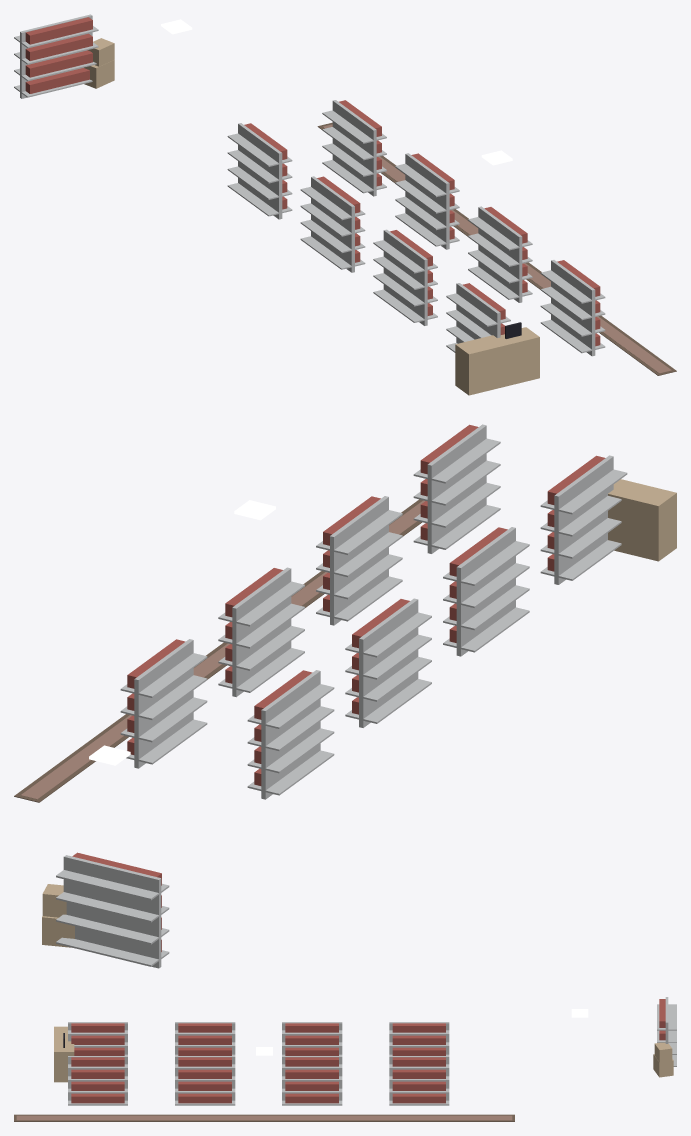
File: fine-s0.glb
3 views of the same model, one above another, from view 1: azimuth 30°, elevation 25°; view 2: azimuth 150°, elevation 25°; view 3: azimuth 270°, elevation 25° (orthographic). The views are drawn at different scales.
Parts seen in each view (by area): view 1: shelving.000, shop-counter.000, shelf.000, shelf.007, shelf.006, shelf.001, shelf.002, shelf.005, shelf.004, shelf.003, soft-s0, cardboard-box.000; view 2: shelving.000, shelf.007, shelf.002, shelf.000, shelf.001, shelf.005, shelf.006, shelf.004, shelf.003, shop-counter.000, soft-s0, cardboard-box.000; view 3: soft-s0, shelf.004, shelf.005, shelf.006, shelf.007, shelf.000, shelf.001, shelf.002, shelf.003, shelving.000, shop-counter.000, cardboard-box.000.
Part boxes in pixels (x1=…): shelving.000: x1=14, y1=14, x2=98, y2=98; shop-counter.000: x1=455, y1=322, x2=539, y2=395; shelf.000: x1=227, y1=123, x2=292, y2=219; shelf.007: x1=540, y1=260, x2=605, y2=356; shelf.006: x1=468, y1=206, x2=532, y2=302; shelf.001: x1=300, y1=176, x2=365, y2=272; shelf.002: x1=373, y1=229, x2=437, y2=325; shelf.005: x1=395, y1=153, x2=459, y2=249; shelf.004: x1=322, y1=100, x2=386, y2=196; shelf.003: x1=446, y1=283, x2=510, y2=352; soft-s0: x1=317, y1=122, x2=676, y2=375; cardboard-box.000: x1=84, y1=38, x2=114, y2=88; shelving.000: x1=56, y1=852, x2=169, y2=968; shelf.007: x1=413, y1=424, x2=500, y2=553; shelf.002: x1=443, y1=527, x2=529, y2=656; shelf.000: x1=247, y1=670, x2=334, y2=799; shelf.001: x1=345, y1=598, x2=431, y2=727; shelf.005: x1=218, y1=567, x2=304, y2=697; shelf.006: x1=316, y1=496, x2=402, y2=625; shelf.004: x1=120, y1=639, x2=207, y2=768; shelf.003: x1=540, y1=455, x2=627, y2=584; shop-counter.000: x1=608, y1=479, x2=676, y2=561; soft-s0: x1=14, y1=499, x2=424, y2=802; cardboard-box.000: x1=42, y1=884, x2=74, y2=947; soft-s0: x1=14, y1=1114, x2=514, y2=1121; shelf.004: x1=389, y1=1056, x2=449, y2=1105; shelf.005: x1=282, y1=1056, x2=342, y2=1105; shelf.006: x1=175, y1=1056, x2=235, y2=1105; shelf.007: x1=68, y1=1056, x2=127, y2=1105; shelf.000: x1=389, y1=1022, x2=449, y2=1055; shelf.001: x1=282, y1=1022, x2=342, y2=1055; shelf.002: x1=175, y1=1022, x2=235, y2=1055; shelf.003: x1=68, y1=1022, x2=127, y2=1055; shelving.000: x1=657, y1=997, x2=676, y2=1066; shop-counter.000: x1=54, y1=1026, x2=74, y2=1082; cardboard-box.000: x1=653, y1=1042, x2=673, y2=1077.
Size of the model in its own units: 5.4 by 2.24 by 19.81.
